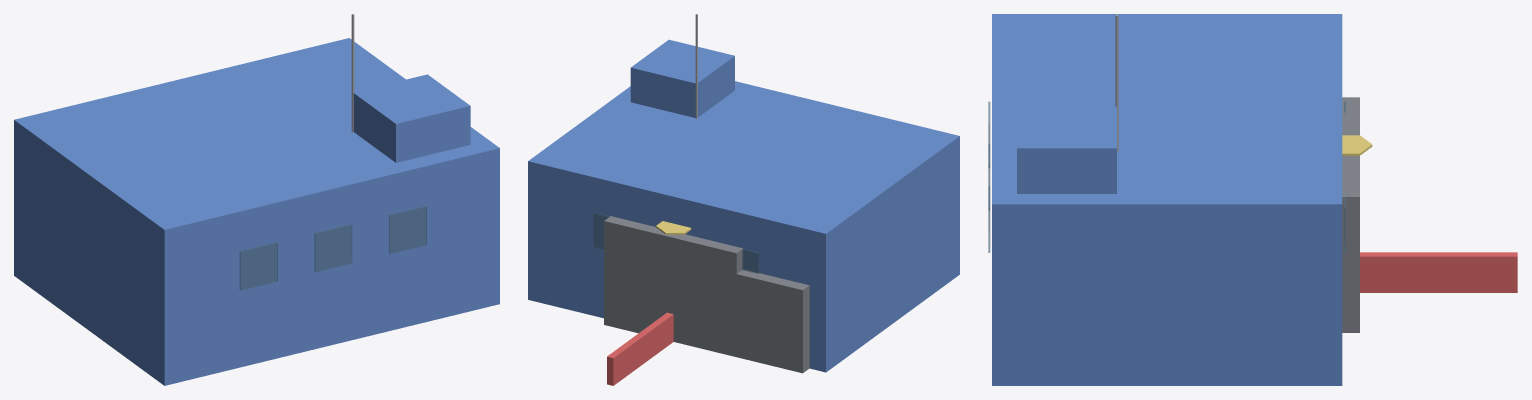
File: police_station.fbx
3 renders of one model, left to right at view 1: azimuth 30°, elevation 25°; view 2: azimuth 150°, elevation 25°; view 3: azimuth 270°, elevation 25°, orthographic. The views are drawn at different scales.
Visible parts, largest first — view 1: MainBody, Tower, Win_B_-2, Win_B_0, Win_B_2, Antenna; view 2: MainBody, Entrance, Garage, Tower, Barrier, Win_F_2, Win_F_-2; view 3: MainBody, Tower, Barrier, Entrance, Badge, Antenna.
Part boxes in pixels (x1,y1,x2,y2): MainBody: (14,38,499,385); Tower: (353,74,470,162); Win_B_-2: (239,242,277,290); Win_B_0: (314,224,352,272); Win_B_2: (389,206,426,254); Antenna: (351,14,354,131); MainBody: (528,81,959,372); Entrance: (604,216,743,356); Garage: (715,269,809,373); Tower: (630,39,734,117); Barrier: (607,312,673,385); Win_F_2: (593,212,609,250); Win_F_-2: (742,249,759,273); MainBody: (992,14,1342,385); Tower: (1017,106,1116,193); Barrier: (1360,252,1517,292); Entrance: (1342,112,1359,332); Badge: (1342,135,1372,155); Antenna: (1115,14,1118,151).
Size of the model in its own units: 9 by 7 by 10.57.
